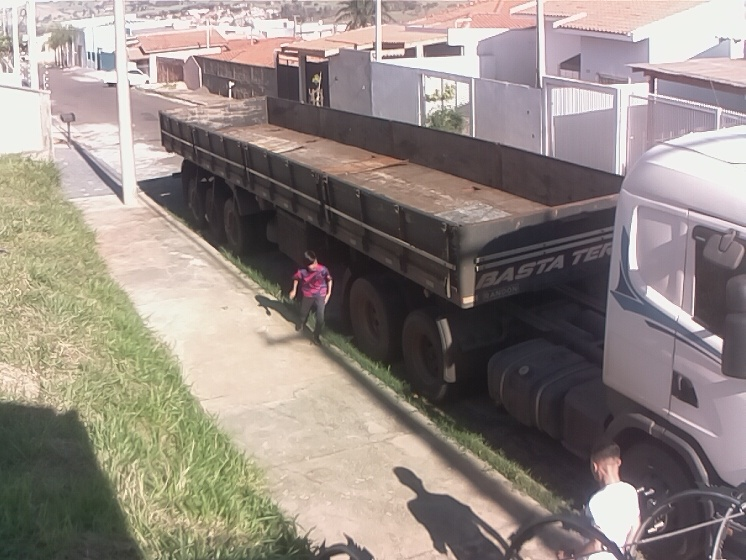person: (543, 437, 649, 560), (286, 249, 335, 350)
